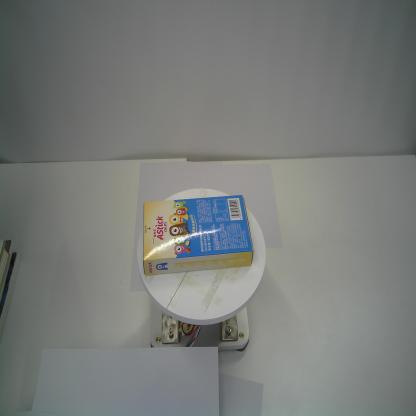Dessert: (142, 194, 254, 276)
